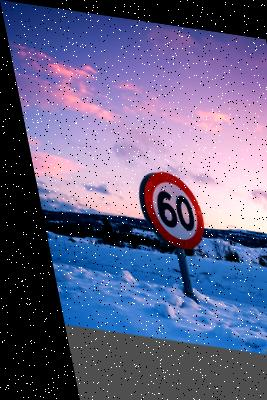Speed Limit -60-: (128, 161, 202, 249)
